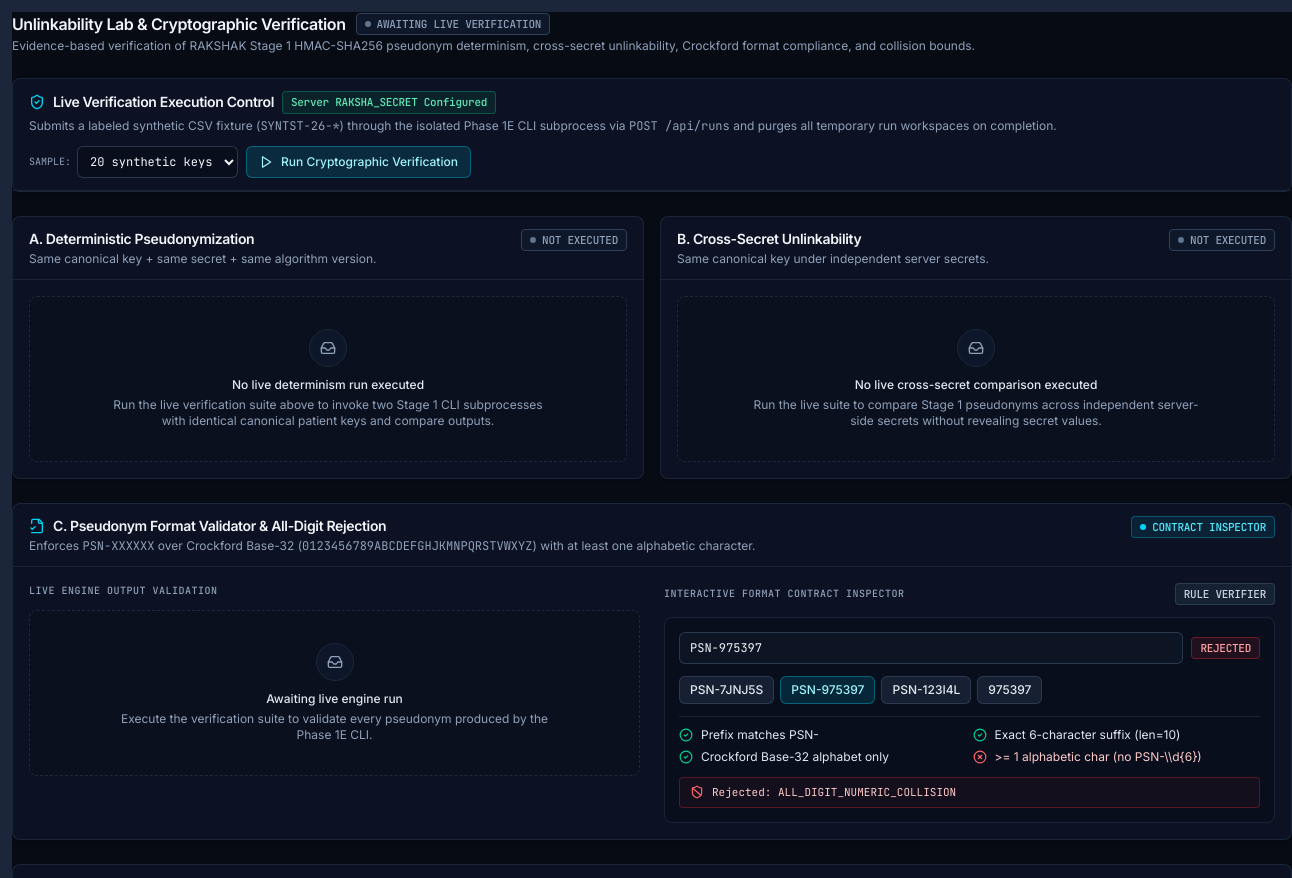
Test: UnlinkabilityLabPage live cryptographic verification UI › starts in honest empty state, runs full 3-run verification with CSRF + DELETE cleanup, and validates format
The width and height of the screenshot is (1292, 878).
expect the text "No live determinism run executed" is shown: met, box [232, 376, 424, 392]
expect the text with test id "format-check-badge" reads "REJECTED": met, box [1200, 641, 1251, 655]
# Run full suite
Click the button "Run Cryptographic Verification" at (358, 162), box [246, 146, 471, 178]
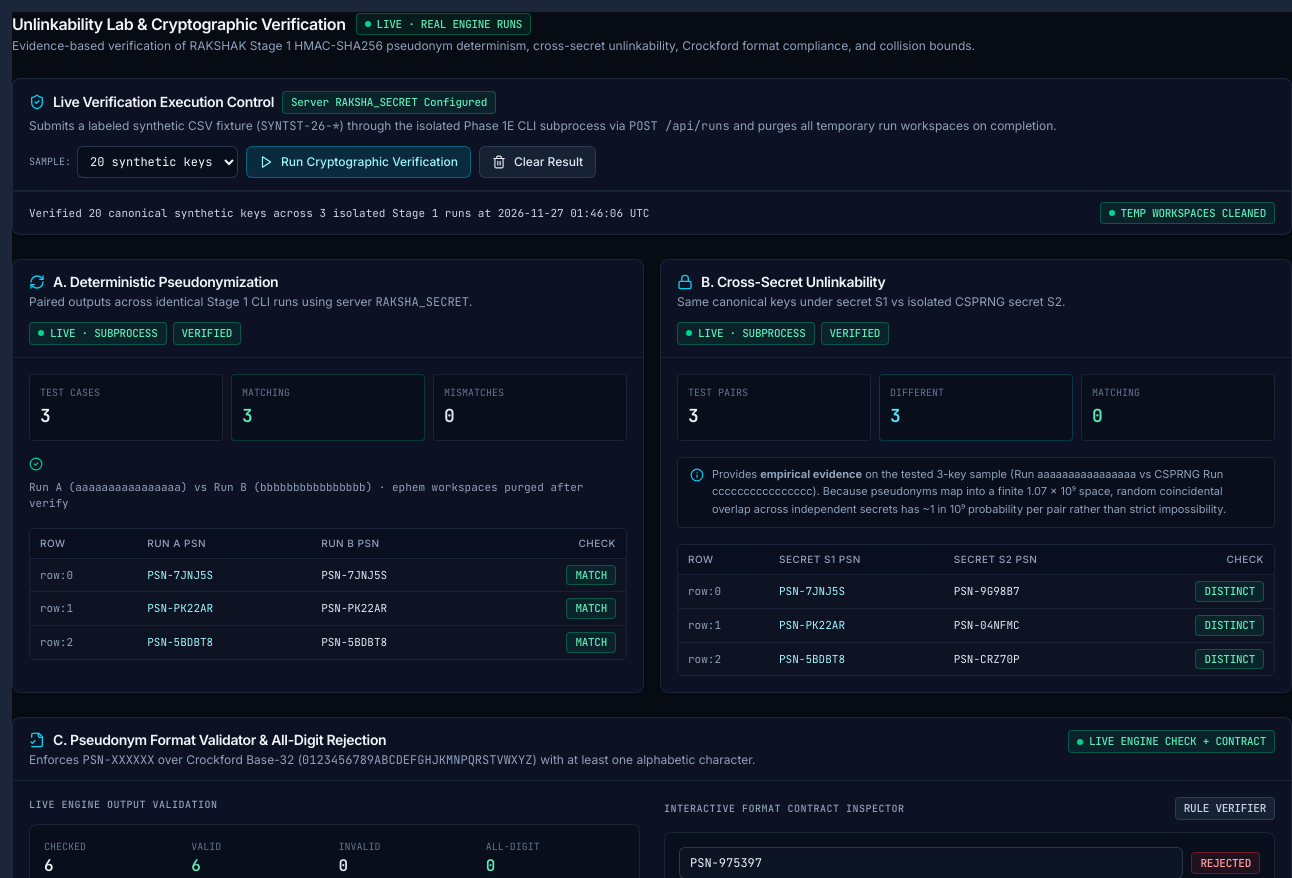
expect the element with test id "verification-scenarios-grid" is shown: met, box [12, 259, 1291, 693]
expect the text "VERIFIED" below "A. Deterministic Pseudonymization" is shown: met, box [182, 326, 232, 340]
expect the text "MATCH" is shown 3 times: met, box [566, 565, 616, 586]; [566, 598, 616, 619]; [566, 632, 616, 653]
